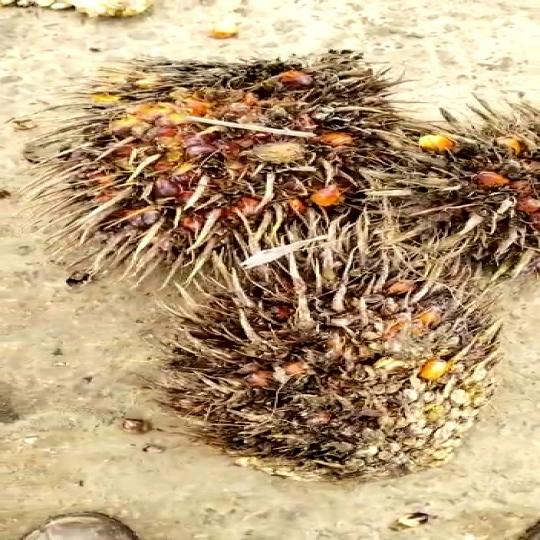terlalu masak: (134, 231, 497, 485), (48, 50, 453, 271)
